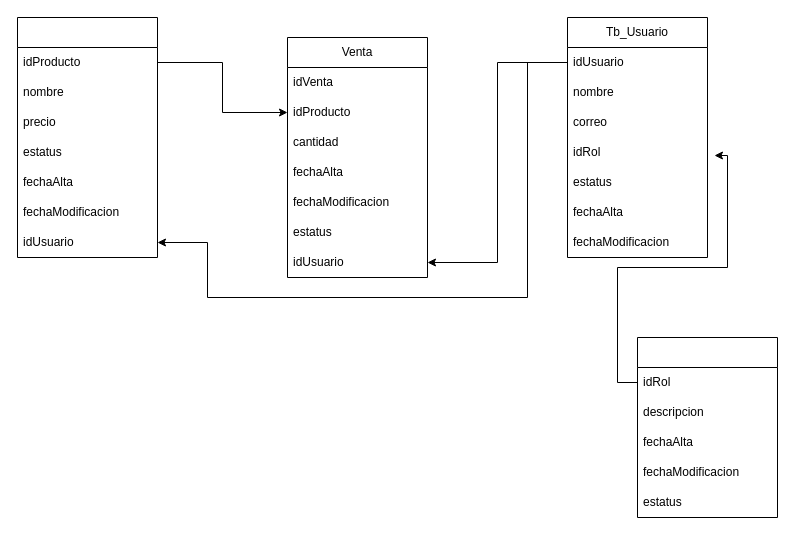
This 795x535 diagram has some shape labels left out. The shapes that lost their labels are listed below. From the top down, each one's box as (x1, y1, x2, y2) in pixels, then its label:
(16, 16, 158, 258): Tb_Producto
(636, 336, 778, 518): Tb_Rol
